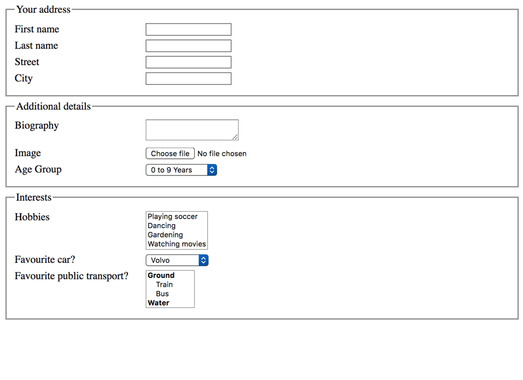_form_: (1, 1, 244, 320)
button: (144, 147, 196, 160)
field: (143, 118, 240, 141), (144, 72, 233, 86), (144, 39, 232, 53), (144, 55, 232, 69), (143, 23, 232, 36)
field_with_label: (15, 116, 242, 143), (15, 70, 234, 87), (15, 37, 233, 54), (16, 251, 212, 269), (14, 21, 233, 37), (13, 162, 220, 178), (14, 55, 234, 70), (15, 146, 199, 161)
select: (145, 164, 218, 177), (144, 253, 210, 267)
